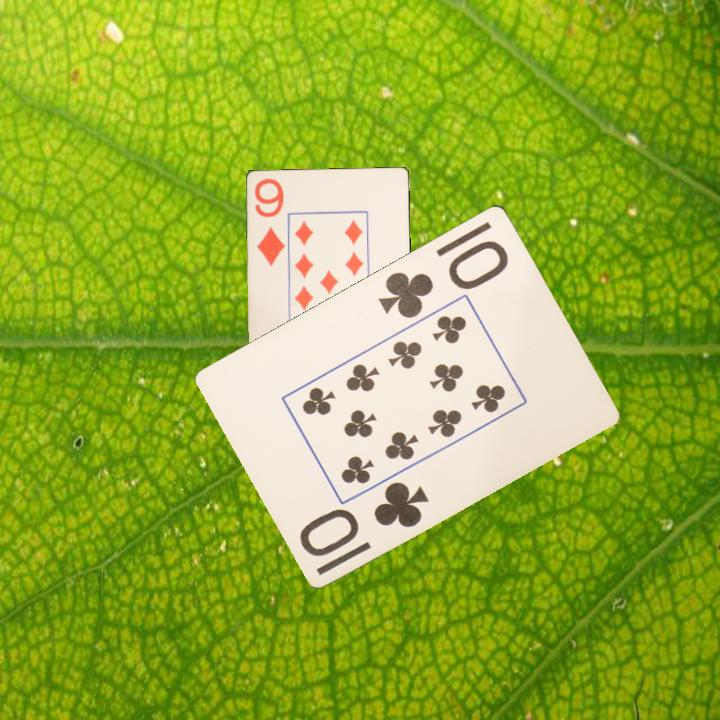10c: (375, 235, 512, 321), (296, 477, 433, 559)
9d: (251, 175, 288, 269)
